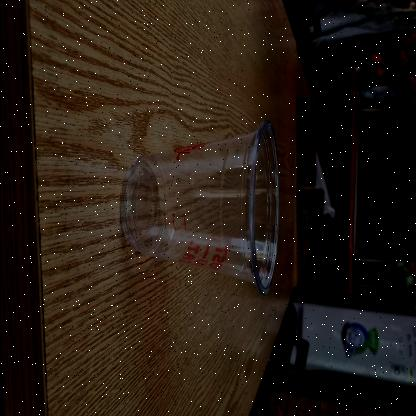Others: (116, 112, 284, 304)
